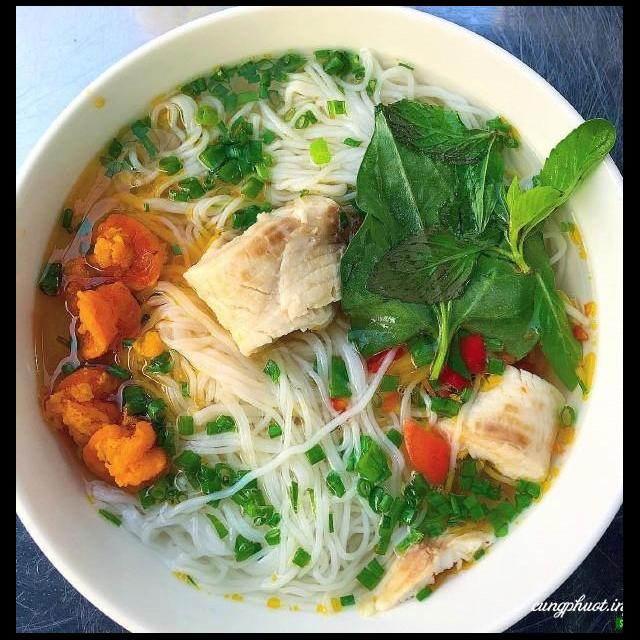bun: (140, 280, 414, 618), (84, 46, 434, 226)
bun ca: (46, 33, 624, 629)
ca: (178, 190, 352, 366), (432, 354, 574, 490), (356, 514, 504, 624)
tom: (56, 208, 176, 300), (78, 412, 174, 502), (42, 360, 136, 450), (61, 280, 148, 370)
